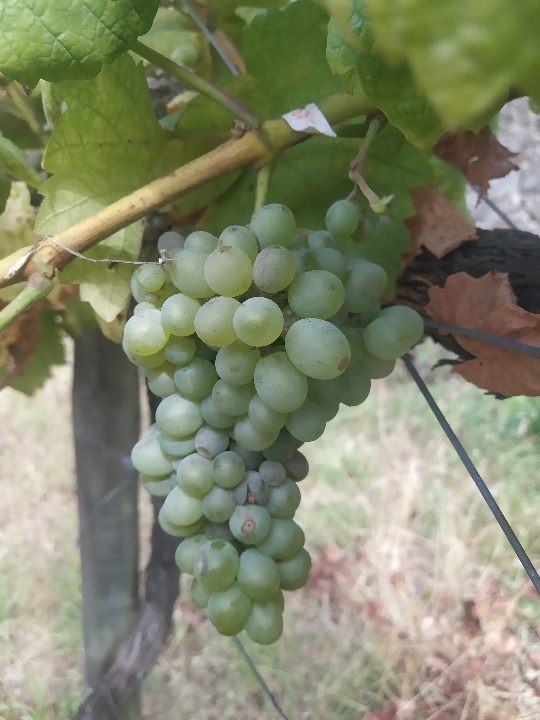grape: (123, 197, 429, 651)
